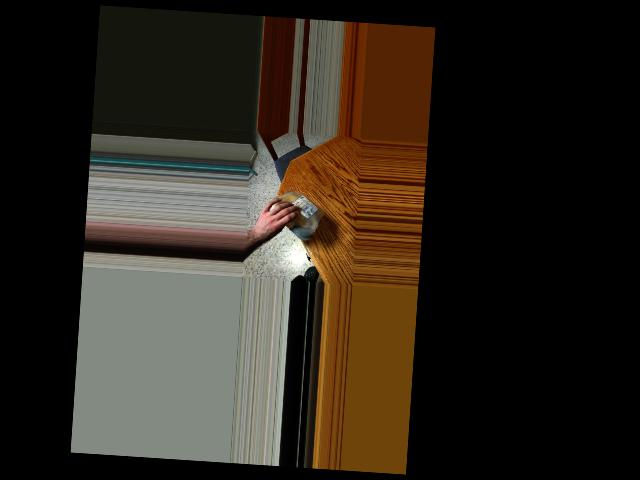cheese: (265, 185, 327, 235)
